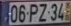0: (9, 4, 18, 24)
3: (50, 2, 58, 21)
4: (57, 1, 64, 21)
6: (17, 3, 25, 23)
P: (28, 3, 39, 23)
Z: (38, 3, 47, 23)
